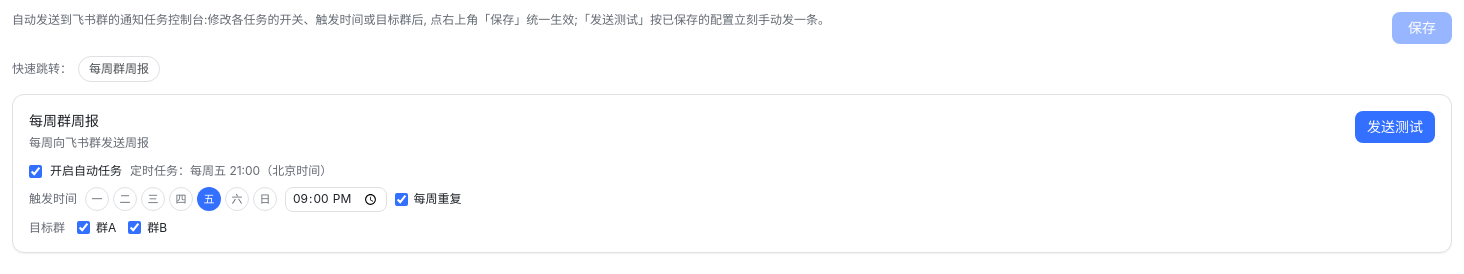
Scenario: AdminFeishuTasksPage(飞书群任务) › 配置改动只落草稿,点「保存」统一提交并提示成功
Expected: the button "每周群周报" is shown, [78,56,160,82]
Expected: the button "保存" is disabled, [1392,12,1452,44]
Click the checkbox labelled "群B": click(135, 228) [128,221,141,234]
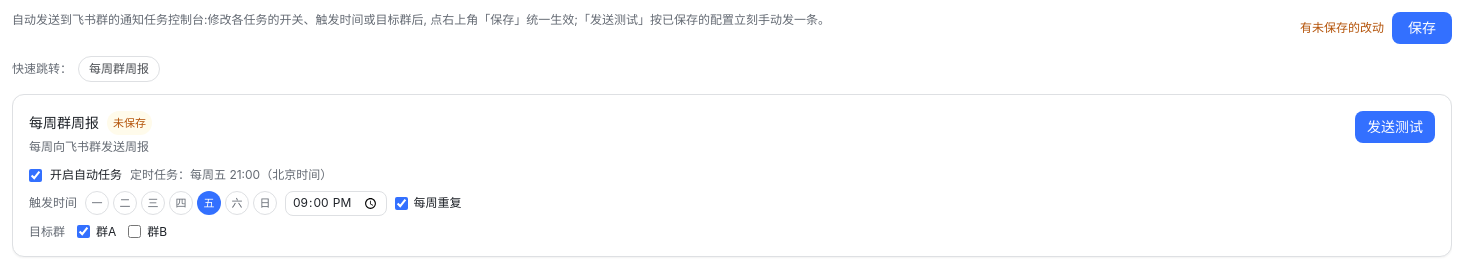
Click the button named "周一": click(97, 203) [85,191,109,215]
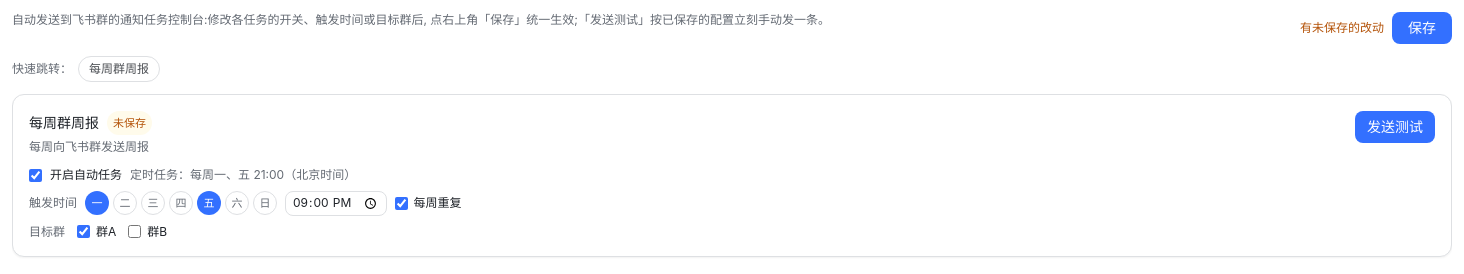
Expected: the text "未保存" is shown, [107,111,152,135]
Expected: the button "保存" is enabled
Click the button "保存": click(1422, 28) [1392,12,1452,44]
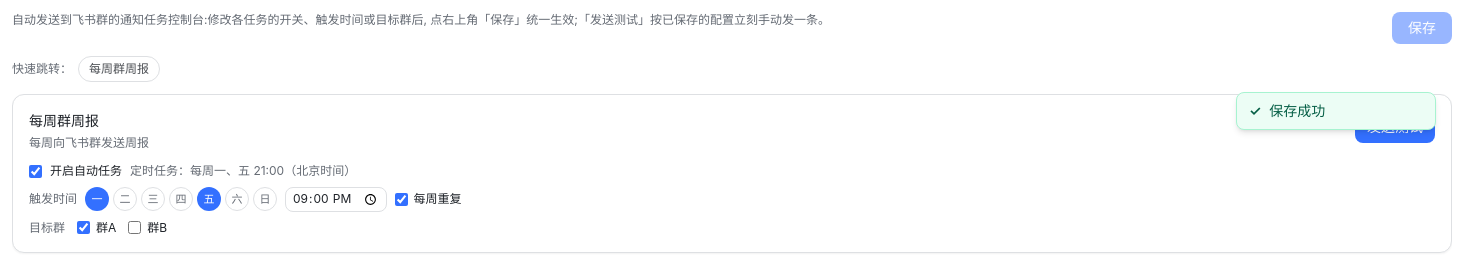
Expected: the text "保存成功" is shown, [1269,101,1325,121]
Expected: the text "未保存" is gone
Expected: the button "保存" is disabled, [1392,12,1452,44]
